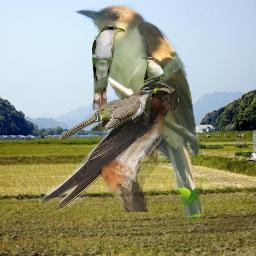Cuckoo: (70, 2, 208, 228), (58, 89, 154, 140), (91, 24, 125, 110), (141, 56, 164, 125)
Swallow: (39, 83, 179, 212)
